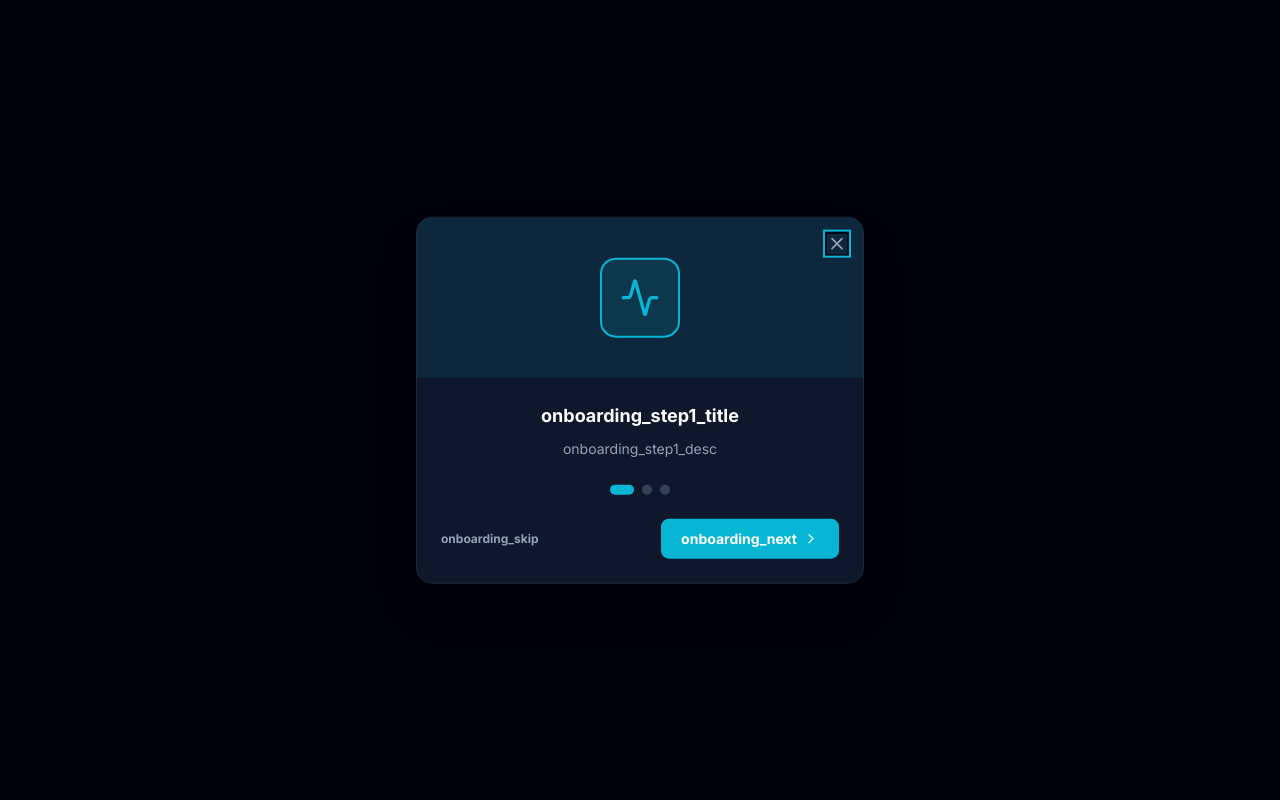
Scenario: OnboardingWizard › allows jumping to specific step using stepper dots
Click the button named "Step 3": (665, 489) top-left (660, 484), bottom-right (670, 494)
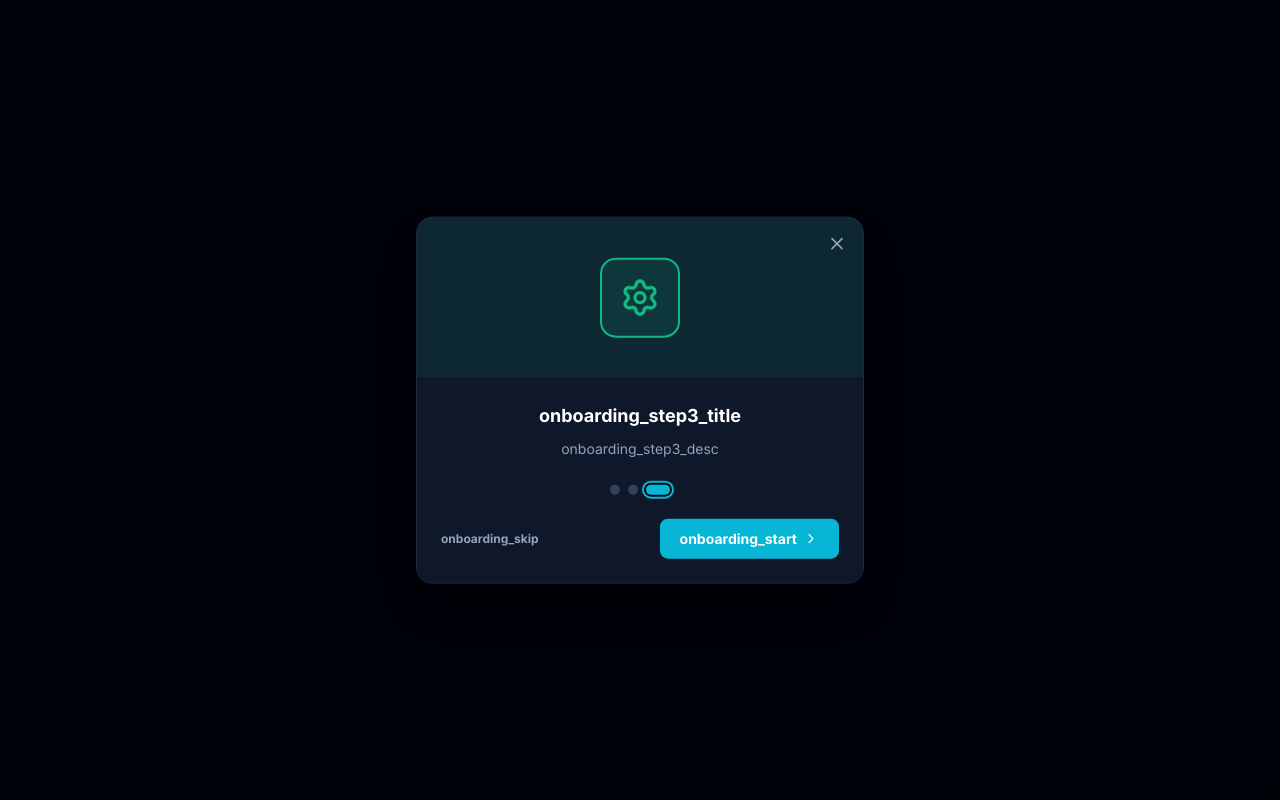
Now the heading "onboarding_step3_title" is shown, box top-left (539, 405), bottom-right (741, 426)
